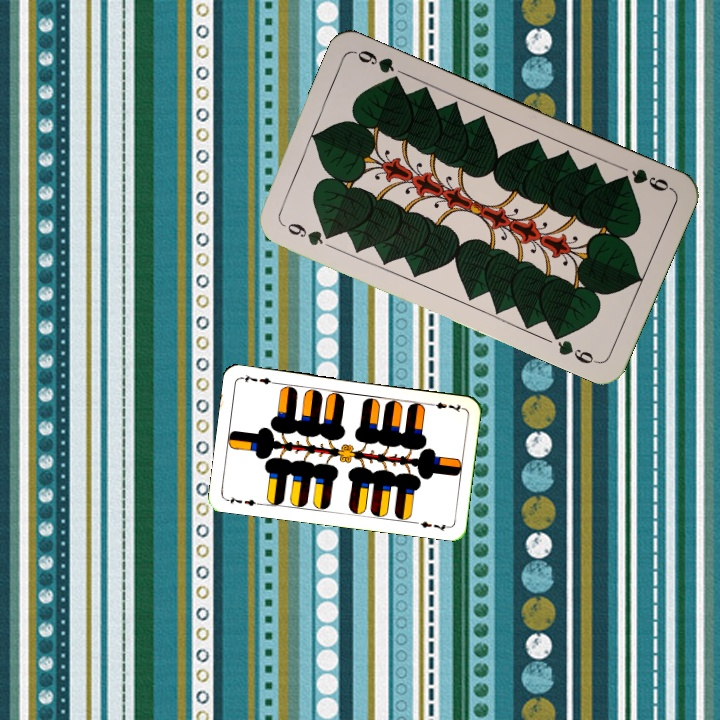E7: (425, 398, 465, 415), (223, 492, 263, 509)
G9: (614, 164, 675, 194), (278, 219, 337, 248)
